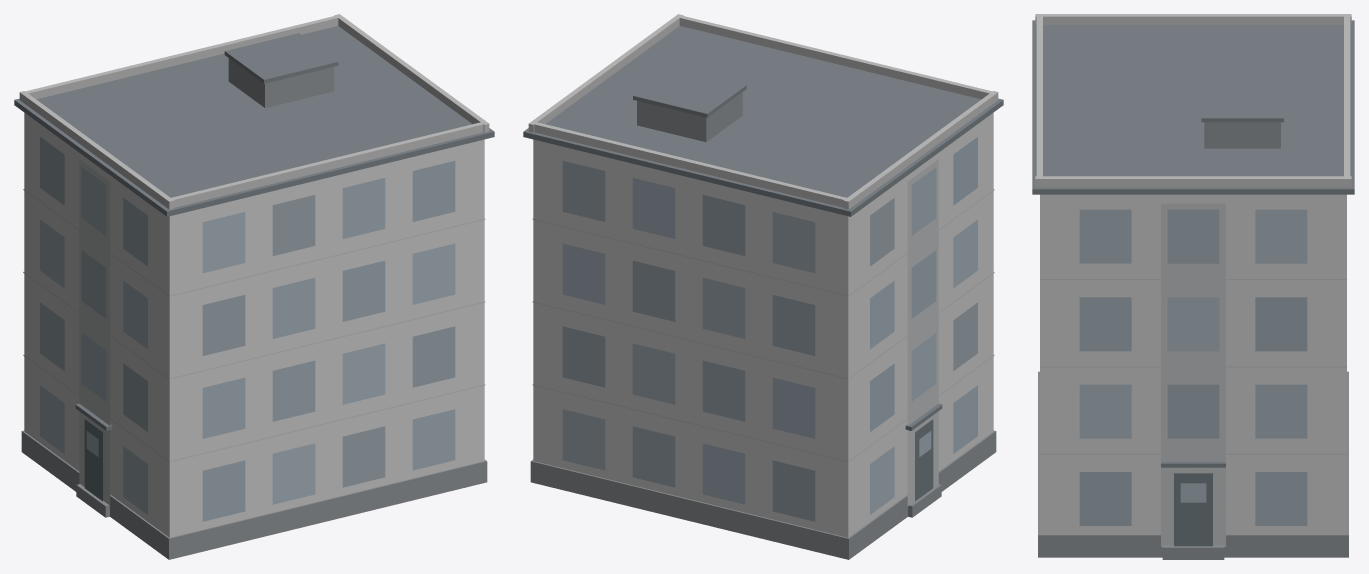
The model's file is block_0.glb.
3 views of the same model, side by side, from view 1: azimuth 30°, elevation 25°; view 2: azimuth 150°, elevation 25°; view 3: azimuth 270°, elevation 25° (orthographic). The views are drawn at different scales.
Visible parts, largest first — view 1: block_0; view 2: block_0; view 3: block_0.
Boxes of the visible parts, x1,y1,x2,y2 form: block_0: (14,14,494,559); block_0: (523,14,1003,559); block_0: (1032,14,1354,559).
Bounding box in the file's own units: 10.4 × 11.57 × 8.4.
